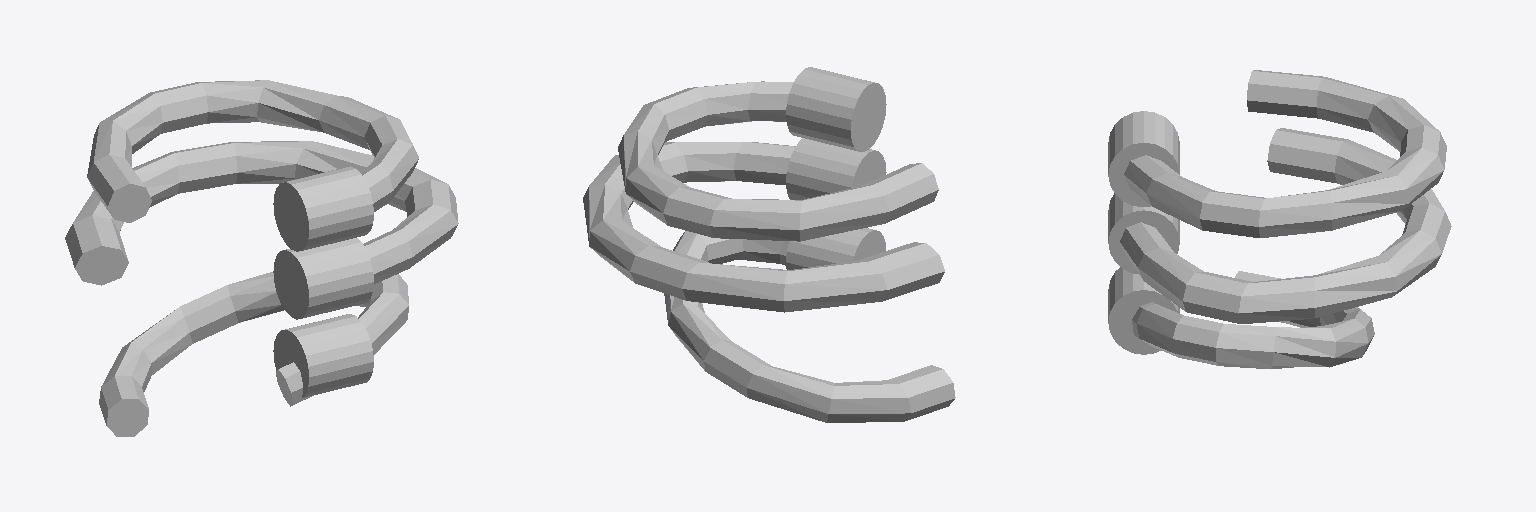
The model's file is wires.obj.
3 renders of one model, left to right at view 1: azimuth 30°, elevation 25°; view 2: azimuth 150°, elevation 25°; view 3: azimuth 270°, elevation 25°, orthographic.
Parts seen in each view (by area): view 1: pWire1 wires, wires pWire3, wires pWire2, wires pWireMount, wires pWireMount1, wires pWireMount2; view 2: wires pWire3, pWire1 wires, wires pWire2, wires pWireMount, wires pWireMount1, wires pWireMount2; view 3: pWire1 wires, wires pWire3, wires pWire2, wires pWireMount, wires pWireMount2, wires pWireMount1.
Part boxes in pixels (x1,y1,x2,y2): pWire1 wires: (87, 80, 418, 222); wires pWire3: (65, 141, 458, 285); wires pWire2: (99, 272, 408, 436); wires pWireMount: (273, 166, 373, 251); wires pWireMount1: (273, 238, 373, 319); wires pWireMount2: (273, 314, 373, 397); wires pWire3: (583, 142, 944, 312); pWire1 wires: (618, 81, 938, 241); wires pWire2: (664, 231, 955, 422); wires pWireMount: (786, 67, 886, 151); wires pWireMount1: (786, 138, 886, 199); wires pWireMount2: (786, 228, 885, 269); pWire1 wires: (1124, 70, 1446, 237); wires pWire3: (1120, 128, 1451, 323); wires pWire2: (1132, 271, 1374, 368); wires pWireMount: (1108, 111, 1179, 206); wires pWireMount2: (1108, 267, 1179, 354); wires pWireMount1: (1108, 193, 1179, 273).
Bounding box in the file's own units: 5.76 × 3.97 × 4.78.